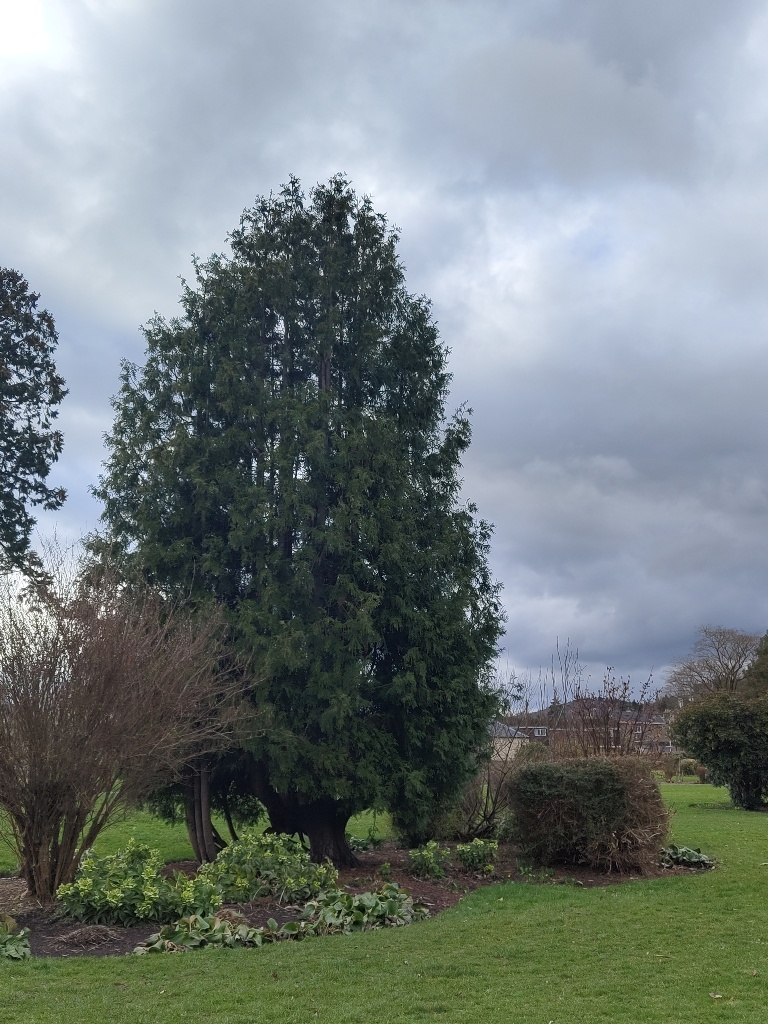Tree: (70, 168, 511, 871)
